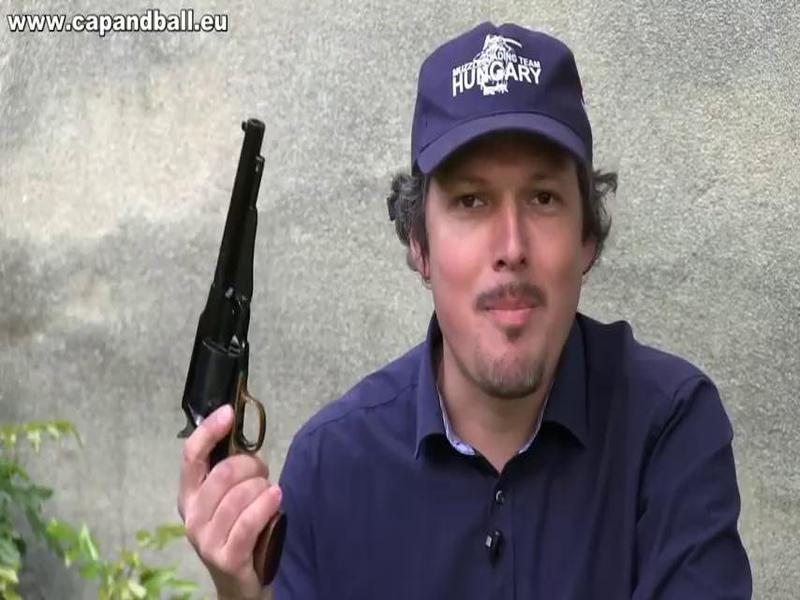Revolver: (172, 111, 305, 565)
